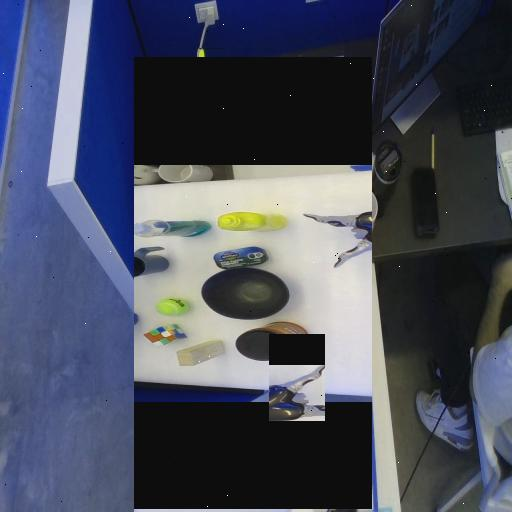bowl: (218, 233, 268, 318)
cleanser: (300, 162, 316, 241)
coffee_can: (176, 267, 214, 338)
jaco: (269, 365, 325, 421)
meat_can: (267, 261, 289, 283)
mug: (258, 156, 289, 186)
mustard_bottle: (306, 249, 324, 317)
rubik: (190, 185, 212, 207)
soup_can: (290, 97, 308, 115)
tennis_ball: (221, 188, 238, 218)
windex: (198, 49, 225, 167)
wooden_block: (170, 219, 195, 244)
workspace: (134, 169, 372, 396)
